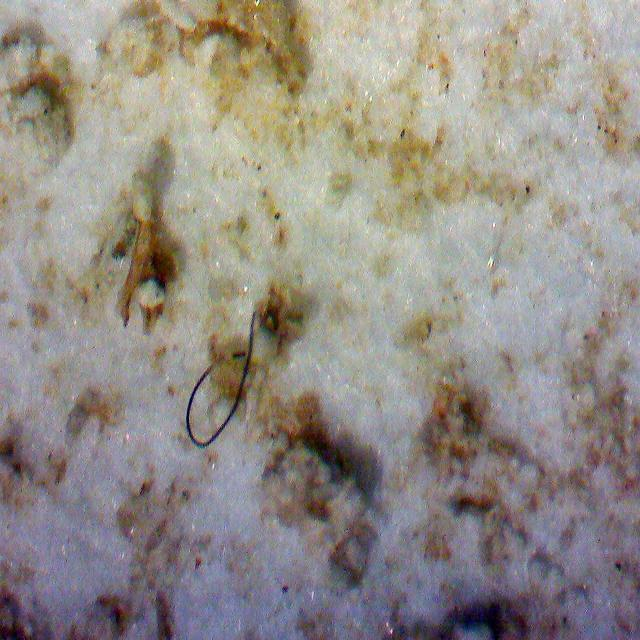microplastic: (186, 310, 256, 447)
